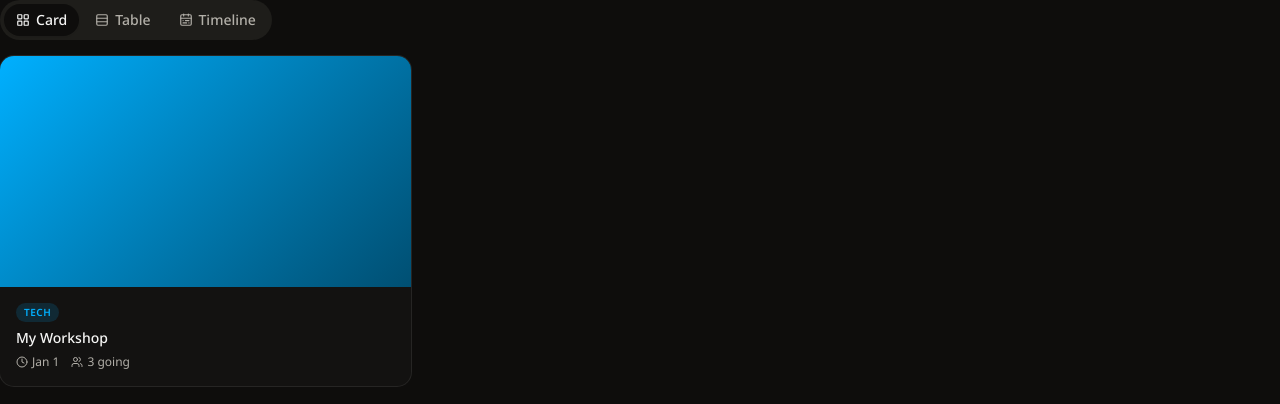
Scenario: HostingView › switches to the Timeline view
Click the button "Timeline" at (217,20), box top-left (166, 4), bottom-right (268, 36)
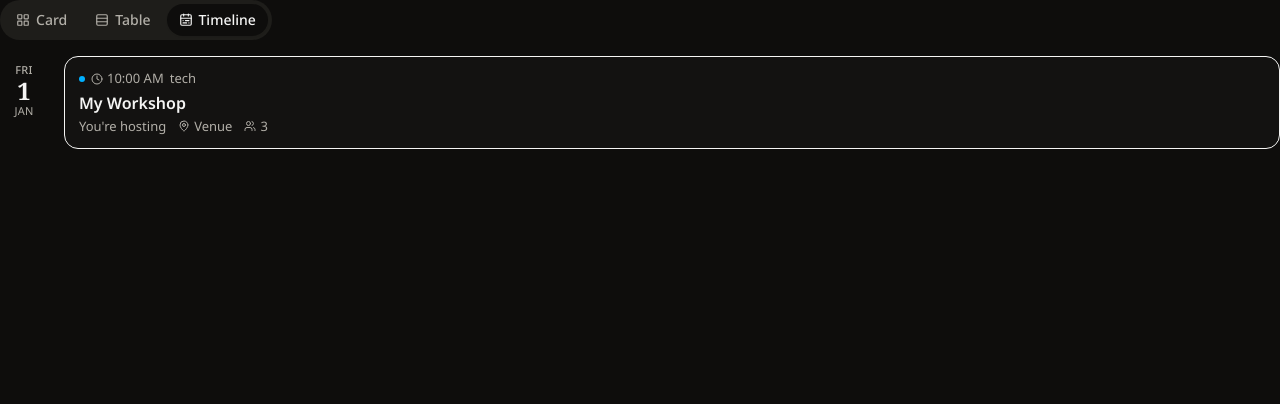
Expected: the heading "My Workshop" is shown, top-left (79, 92), bottom-right (186, 114)
Expected: the element showing "Fri 1 Jan 10:00 AM tech My Workshop You're hosting Venue 3" is shown, top-left (0, 56), bottom-right (1279, 149)
